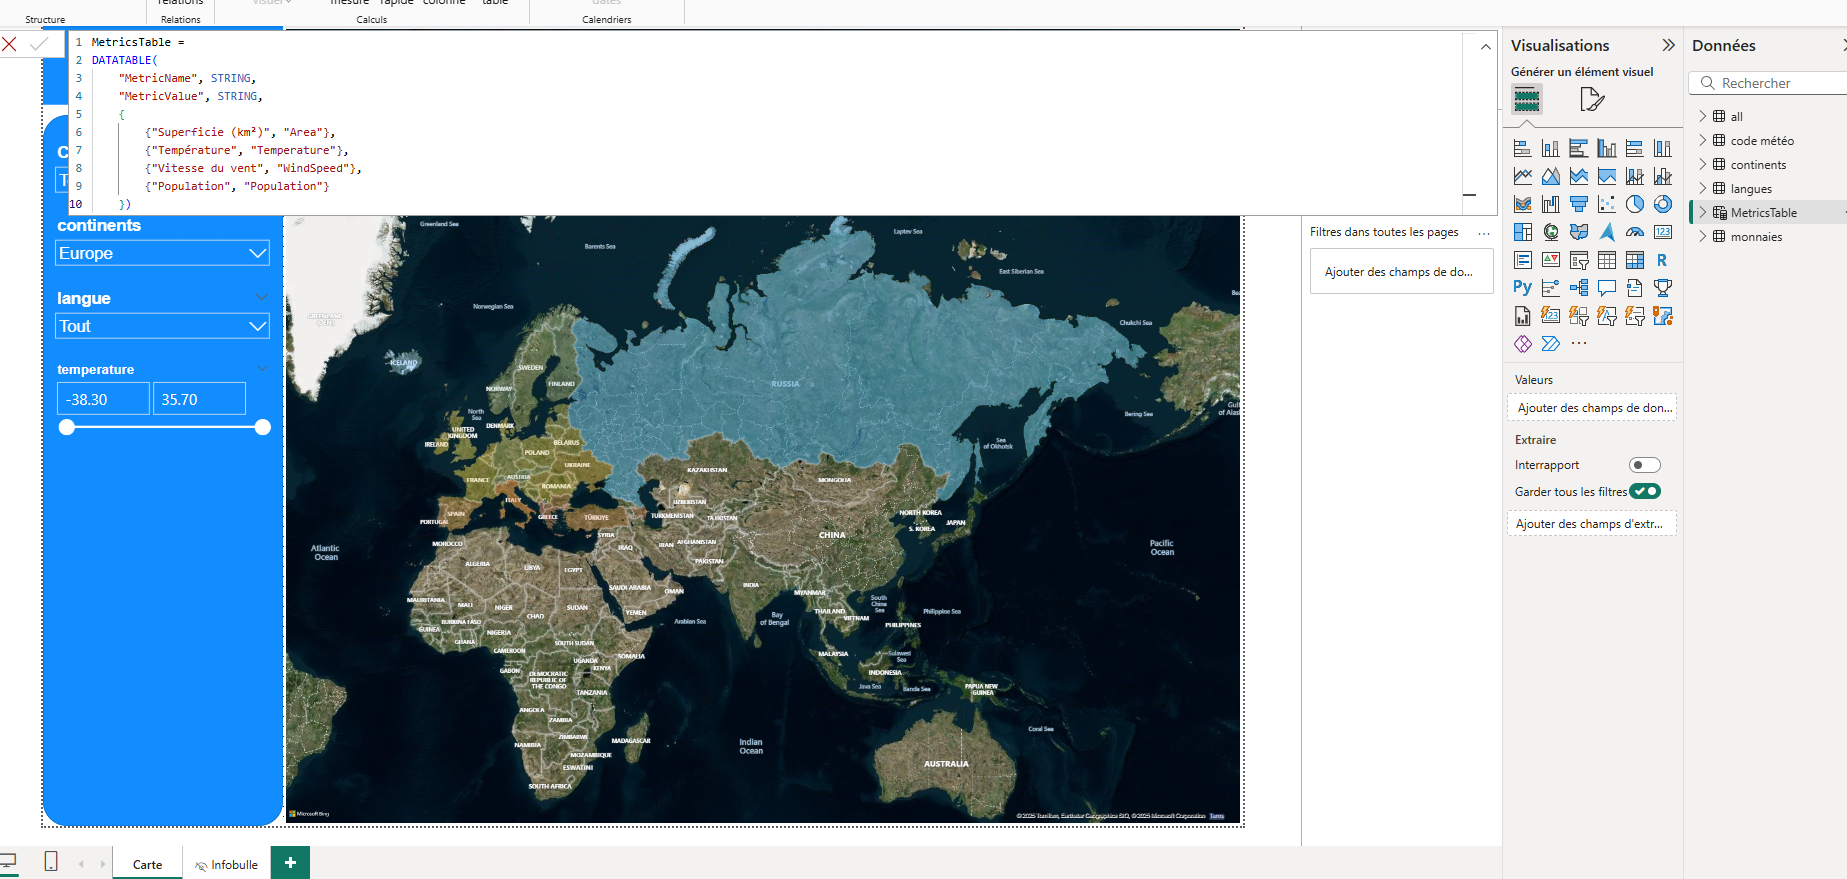

The page's visual inventory and layout, read from the dashboard file:
{"tool":"powerbi","page":{"name":"Carte","canvas":[1920,1280],"ordinal":0},"visuals":[{"type":"shape","box":[0,142.4,384,1137.6],"z":0},{"type":"filledMap","fields":{"Category":["all.cca2"]},"box":[384,0,1536,1280],"z":1000},{"type":"textbox","box":[0,0,384,126.4],"z":2000},{"type":"slicer","fields":{"Values":["continents.continents"]},"box":[9.6,299.2,363.2,116.8],"z":3000},{"type":"slicer","fields":{"Values":["langues.langue"]},"box":[9.6,416,363.2,116.8],"z":4000},{"type":"slicer","fields":{"Values":["all.temperature"]},"box":[9.6,532.8,363.2,155.2],"z":5000},{"type":"slicer","fields":{"Values":["MetricsTable.MetricName"]},"box":[9.6,182.4,363.2,116.8],"z":5001}]}

Visuals, with their boxes on the page's 1920x1280 design canvas (x1, y1, x2, y2). These are canvas units, not pixel positions in the 1847x879 screenshot, which may show the page scaled, cropped or inside an application window:
shape: 0,142,384,1280
filledMap - all.cca2: 384,0,1920,1280
textbox: 0,0,384,126
slicer - continents.continents: 10,299,373,416
slicer - langues.langue: 10,416,373,533
slicer - all.temperature: 10,533,373,688
slicer - MetricsTable.MetricName: 10,182,373,299
